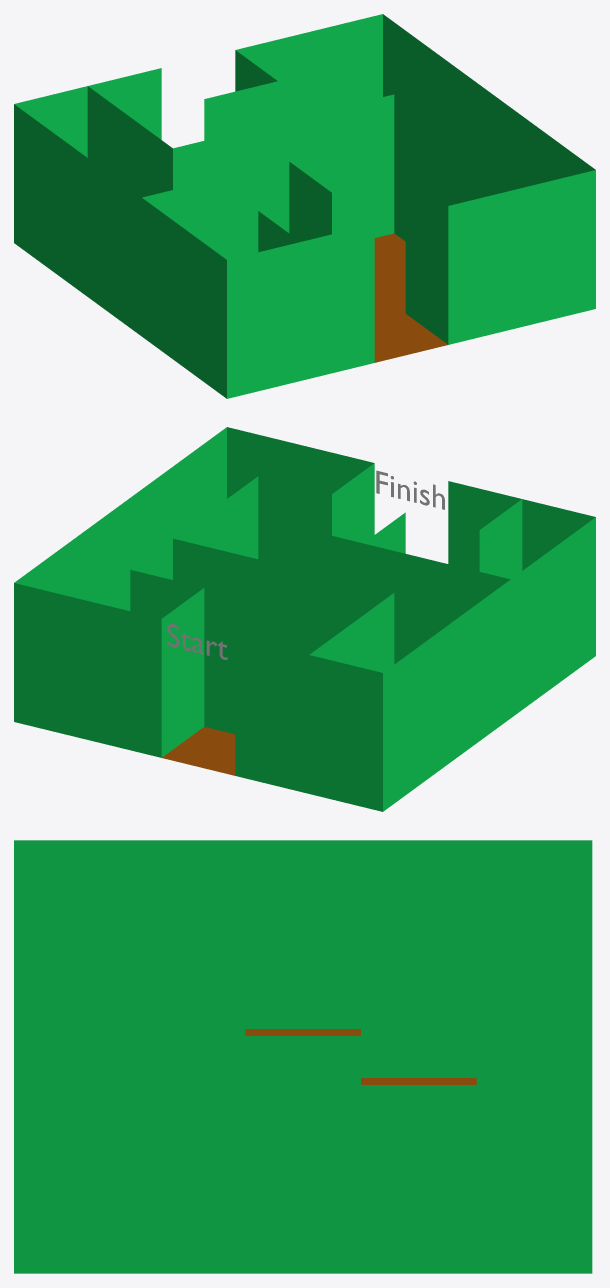
The model's file is Maze.glb.
The picture shows the model from 3 angles, top to bottom: view 1: azimuth 30°, elevation 25°; view 2: azimuth 150°, elevation 25°; view 3: azimuth 270°, elevation 25°; orthographic projection. The views are drawn at different scales.
Visible parts, largest first — view 1: Wall.004, Wall.007, Wall.006, Wall.005, Wall.028, Wall.016, Wall.014, Wall.022, Wall.013, Wall.017, Wall.015, Wall.030 (+23 smaller); view 2: Wall.003, Wall, Wall.001, Wall.002, Wall.006, Wall.020, Wall.014, Wall.016, Wall.013, Wall.017, Wall.015, Wall.018 (+25 smaller); view 3: Wall.008, Wall.011, Wall.009, Wall.010, Wall.012, Wall.015, Wall.024, Wall.014, Wall.018, Wall.023, Wall.033, Wall.028 (+7 smaller).
Boxes of the visible parts, bbox=[...] form: Wall.004: bbox=[300, 224, 374, 380]; Wall.007: bbox=[448, 188, 522, 344]; Wall.006: bbox=[522, 170, 595, 326]; Wall.005: bbox=[227, 242, 300, 398]; Wall.028: bbox=[405, 175, 448, 344]; Wall.016: bbox=[56, 135, 99, 304]; Wall.014: bbox=[141, 198, 184, 367]; Wall.022: bbox=[320, 94, 394, 237]; Wall.013: bbox=[184, 229, 226, 398]; Wall.017: bbox=[14, 104, 56, 273]; Wall.015: bbox=[99, 167, 141, 335]; Wall.030: bbox=[215, 161, 289, 259]; Wall.003: bbox=[235, 637, 309, 793]; Wall: bbox=[87, 601, 161, 757]; Wall.001: bbox=[14, 583, 87, 739]; Wall.002: bbox=[309, 655, 382, 811]; Wall.006: bbox=[227, 427, 300, 566]; Wall.020: bbox=[204, 588, 277, 734]; Wall.014: bbox=[510, 548, 553, 717]; Wall.016: bbox=[425, 611, 468, 780]; Wall.013: bbox=[553, 517, 595, 686]; Wall.017: bbox=[383, 642, 425, 811]; Wall.015: bbox=[468, 580, 510, 748]; Wall.018: bbox=[161, 588, 204, 757]; Wall.008: bbox=[476, 1085, 592, 1273]; Wall.011: bbox=[129, 1085, 245, 1273]; Wall.009: bbox=[361, 1085, 476, 1273]; Wall.010: bbox=[245, 1085, 360, 1273]; Wall.012: bbox=[14, 1085, 129, 1273]; Wall.015: bbox=[245, 840, 360, 1028]; Wall.024: bbox=[361, 889, 476, 1077]; Wall.014: bbox=[129, 840, 245, 938]; Wall.018: bbox=[476, 987, 592, 1084]; Wall.023: bbox=[476, 889, 592, 986]; Wall.033: bbox=[129, 938, 245, 1035]; Wall.028: bbox=[14, 987, 129, 1084].
Bounding box in the file's own units: 5 × 1.8 × 5.03.
